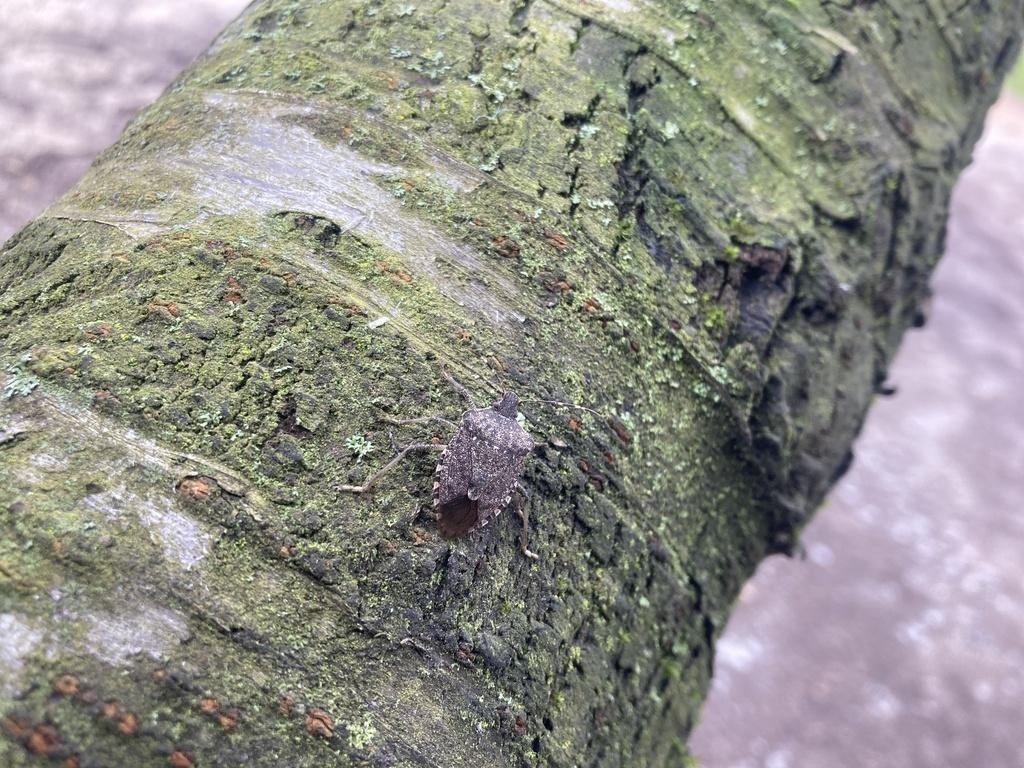stink_bugs: (328, 340, 614, 588)
